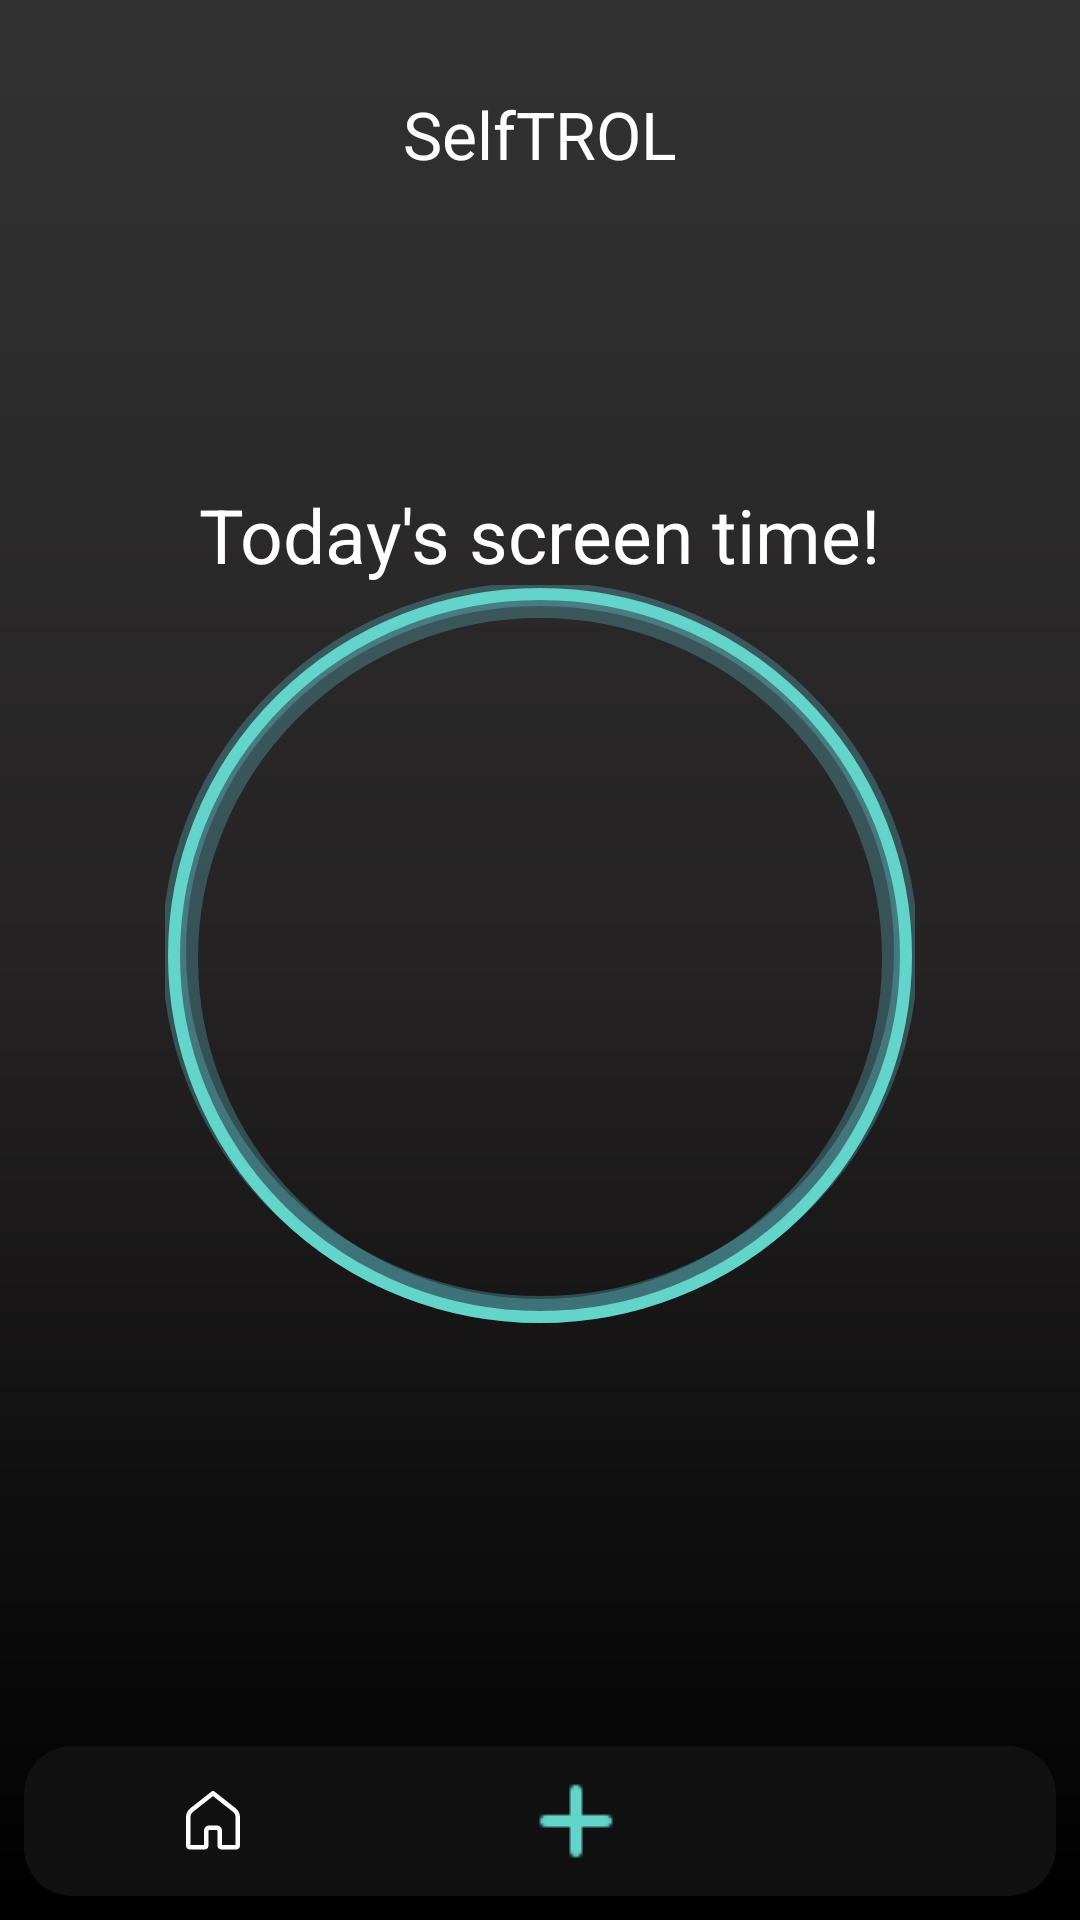

Named icons in this screenshot (1080 × 1920) and their centers, point (x, y):
home: point (213, 1820)
plus: point (576, 1821)
